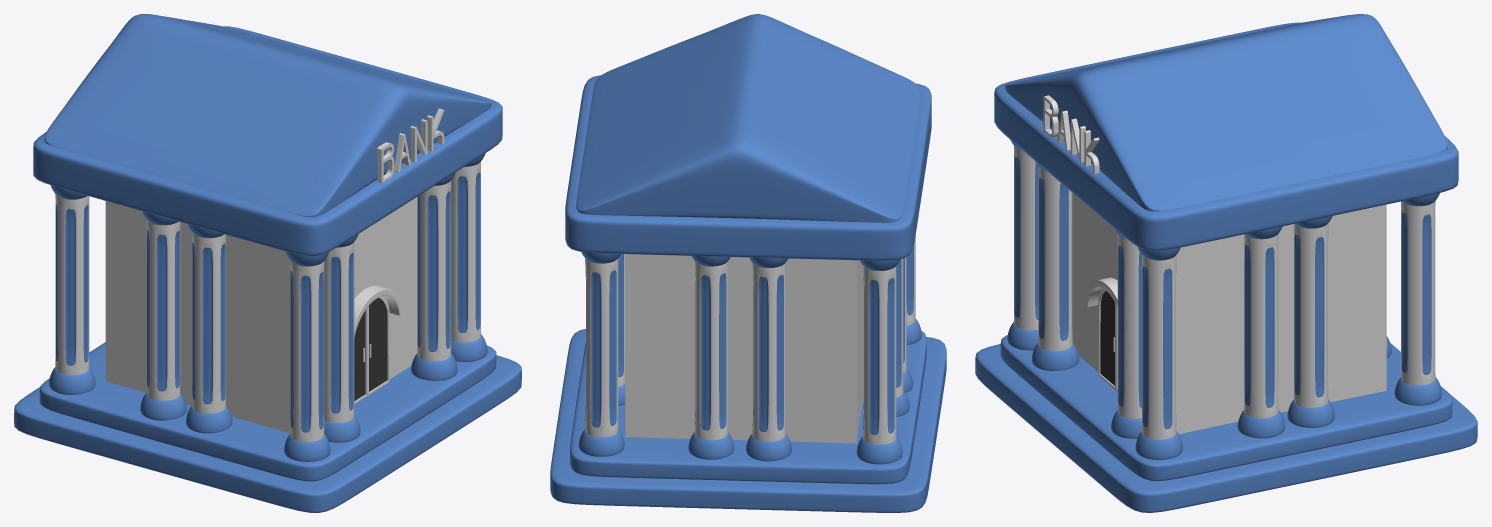
The model's file is bank-building-3d-animated-icon-1025883694290.glb.
3 views of the same model, side by side, from view 1: azimuth 30°, elevation 25°; view 2: azimuth 150°, elevation 25°; view 3: azimuth 270°, elevation 25° (orthographic). The views are drawn at different scales.
Visible parts, largest first — view 1: Roof, Pillars, Base, Building, Door, Letter B; view 2: Roof, Building, Pillars, Base; view 3: Roof, Pillars, Base, Building, Door, Letter B.
Boxes of the visible parts, bbox=[...] form: Roof: bbox=[33, 14, 502, 255]; Pillars: bbox=[49, 153, 487, 461]; Base: bbox=[14, 342, 521, 512]; Building: bbox=[105, 196, 417, 433]; Door: bbox=[354, 285, 400, 403]; Letter B: bbox=[377, 142, 394, 183]; Roof: bbox=[565, 14, 931, 260]; Building: bbox=[625, 254, 863, 443]; Pillars: bbox=[578, 236, 921, 464]; Base: bbox=[550, 329, 946, 512]; Roof: bbox=[994, 14, 1458, 250]; Pillars: bbox=[1007, 140, 1441, 459]; Base: bbox=[975, 335, 1477, 512]; Building: bbox=[1072, 193, 1386, 433]; Door: bbox=[1086, 277, 1117, 391]; Letter B: bbox=[1043, 95, 1058, 137].
Bounding box in the file's own units: 2.08 × 1.67 × 2.08.
